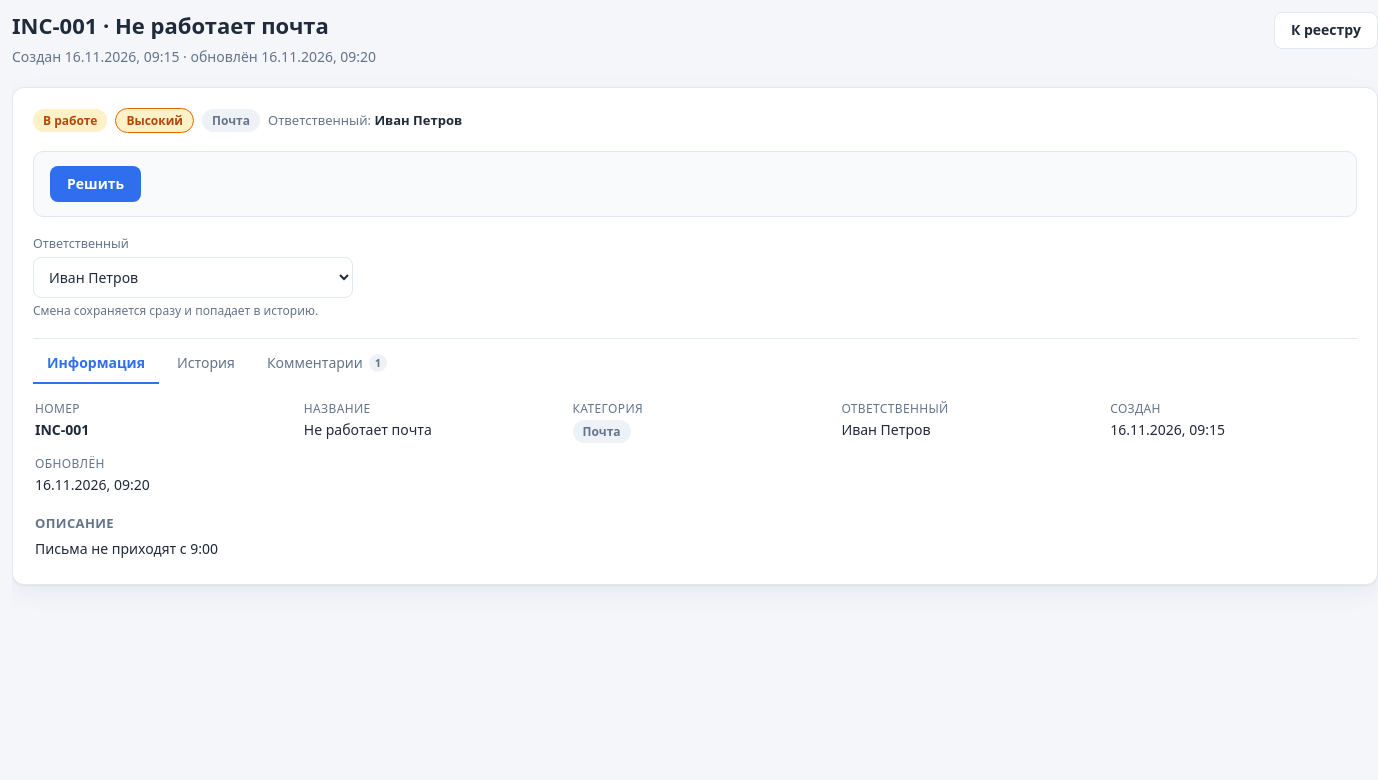
Test: IncidentDetailPage — карточка › рисует комментарии и историю с «было → стало»
Click the tab "Комментарии 1": (327, 364) [253,343,401,384]
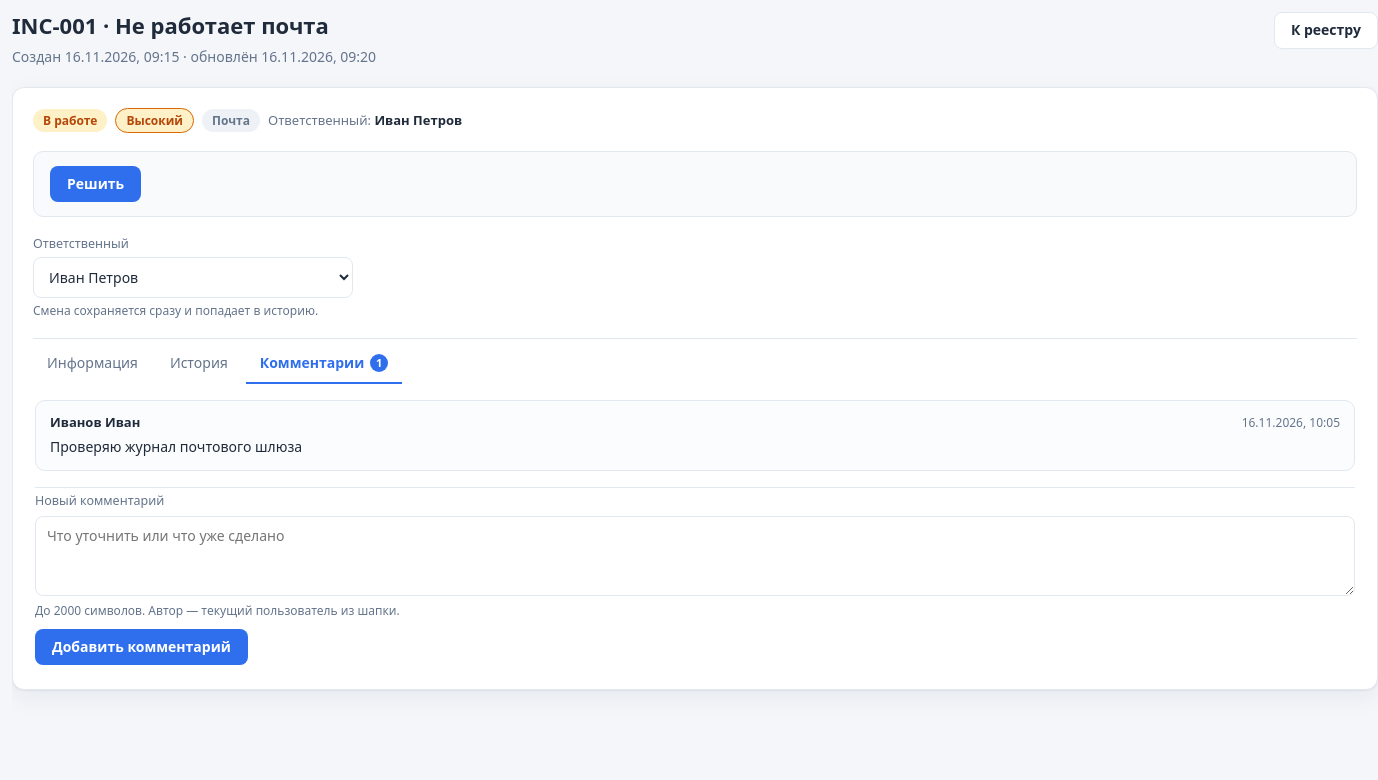
Result: the list item "Проверяю журнал почтового шлюза" is shown at [50,437,302,456]
Result: the text "Иванов Иван" is shown at [50,413,140,431]
Click the tab "История": (199, 364) [156,343,242,384]
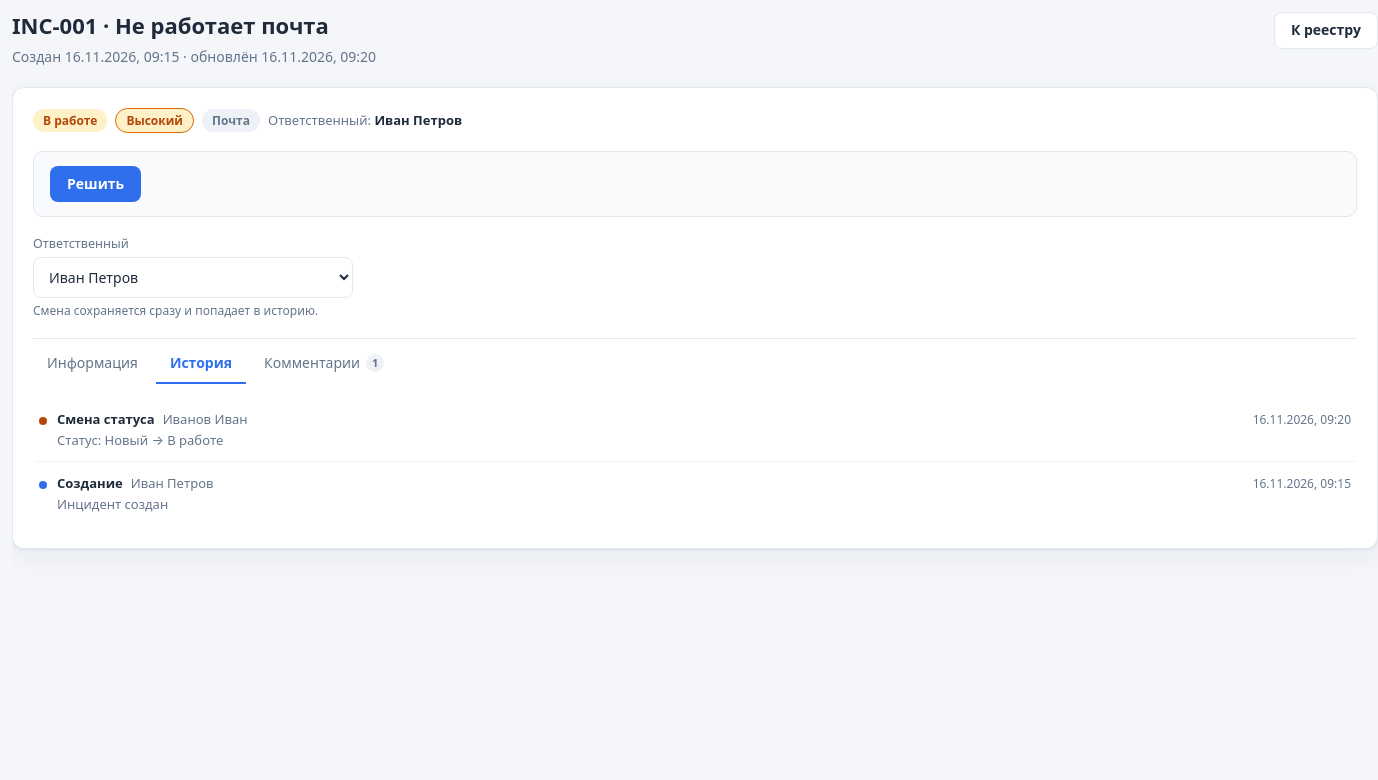
Result: the text "Создание" is shown at [57,474,123,492]
Result: the text "Смена статуса" is shown at [57,410,155,428]
Result: the text "Статус: Новый → В работе" is shown at [57,431,223,449]
